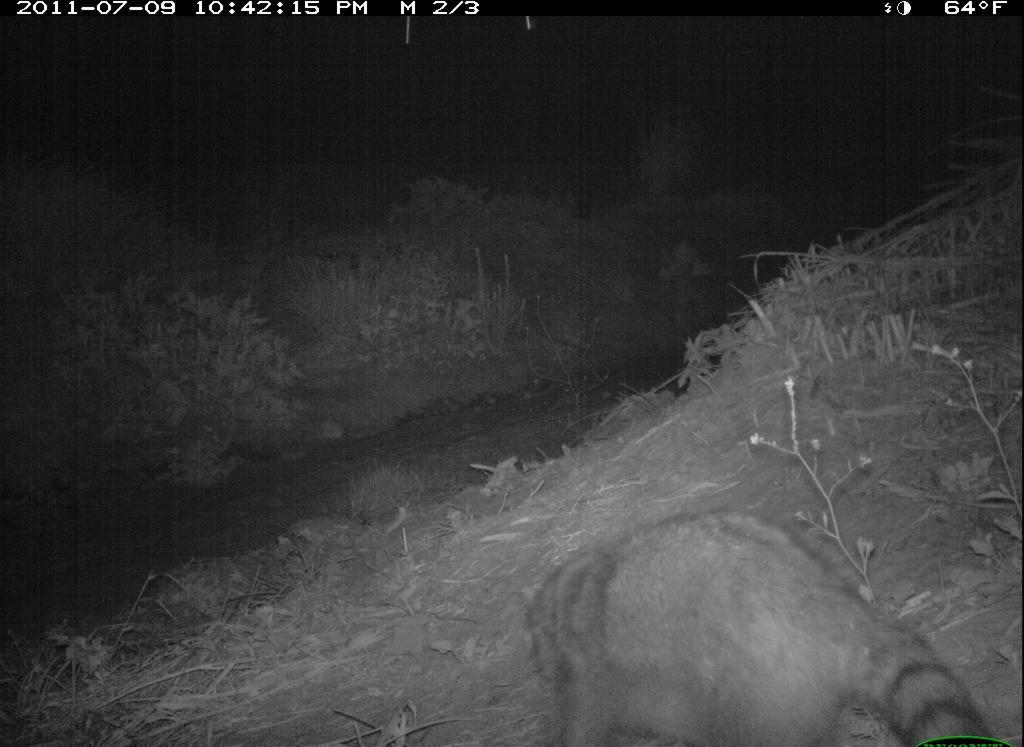raccoon: (516, 498, 1003, 747)
